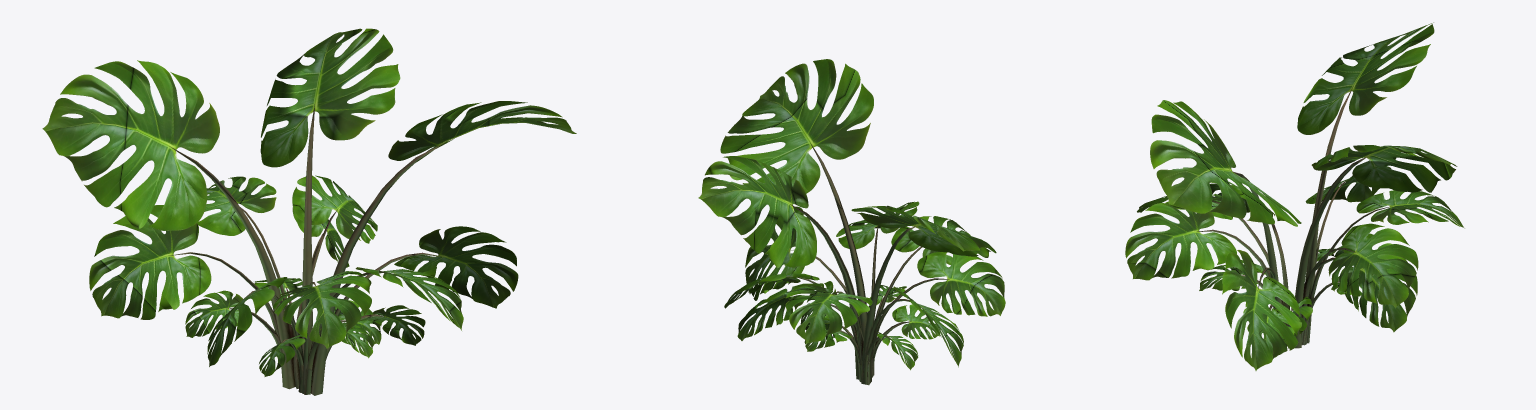
File: taro-elephant-ear.glb
The picture shows the model from 3 angles, left to right: view 1: azimuth 30°, elevation 25°; view 2: azimuth 150°, elevation 25°; view 3: azimuth 270°, elevation 25°; orthographic projection. The views are drawn at different scales.
Parts seen in each view (by area): view 1: tree.003SM_MZRa_Monstera_B073; view 2: tree.003SM_MZRa_Monstera_B073; view 3: tree.003SM_MZRa_Monstera_B073.
Part boxes in pixels (box(x1,y1,x2,y2)): tree.003SM_MZRa_Monstera_B073: box(42, 28, 576, 395); tree.003SM_MZRa_Monstera_B073: box(698, 59, 1005, 385); tree.003SM_MZRa_Monstera_B073: box(1125, 22, 1464, 370).
Size of the model in its own units: 3.46 by 2.37 by 3.23.
Materials: 2 (2 with a texture image).
